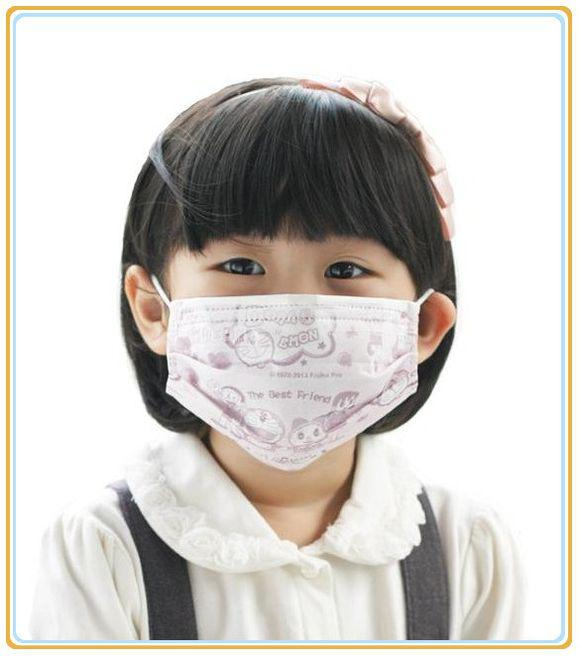OK: (172, 178, 437, 443)
